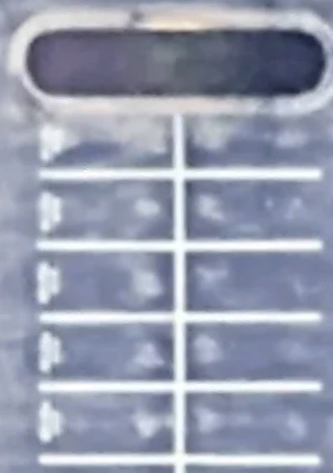Vacant: (179, 387, 317, 463), (177, 104, 320, 176), (40, 386, 179, 460), (39, 246, 179, 318), (39, 317, 180, 388), (179, 246, 318, 318), (39, 175, 179, 246), (178, 176, 318, 246), (39, 104, 177, 175), (179, 318, 318, 388)
